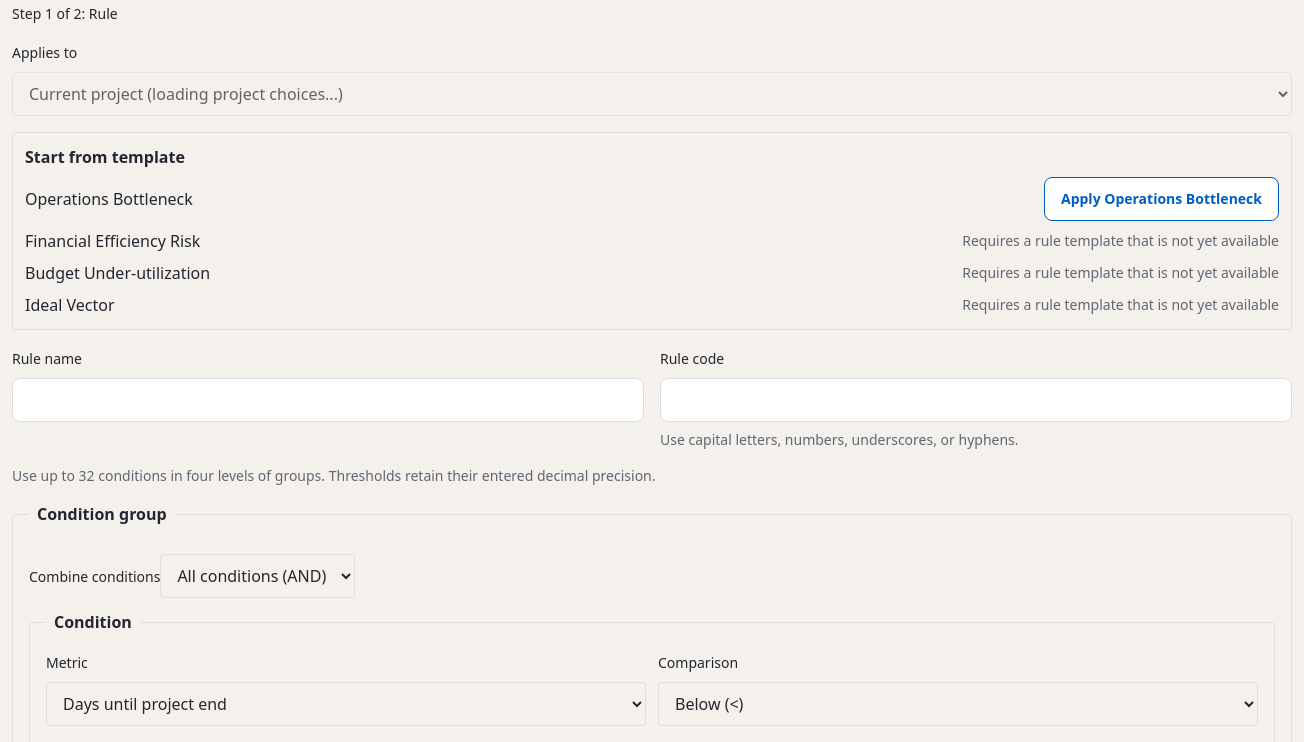
project-scoped record bindings › shows a permission message and makes no activities request when the user lacks both activity permissions
Expected: the dropdown labelled "Applies to" is shown, [12, 72, 1292, 116]
Select "Days activity is overdue" in the dropdown labelled "Metric" at point(346, 704), box [46, 682, 646, 726]
(page scrolled)
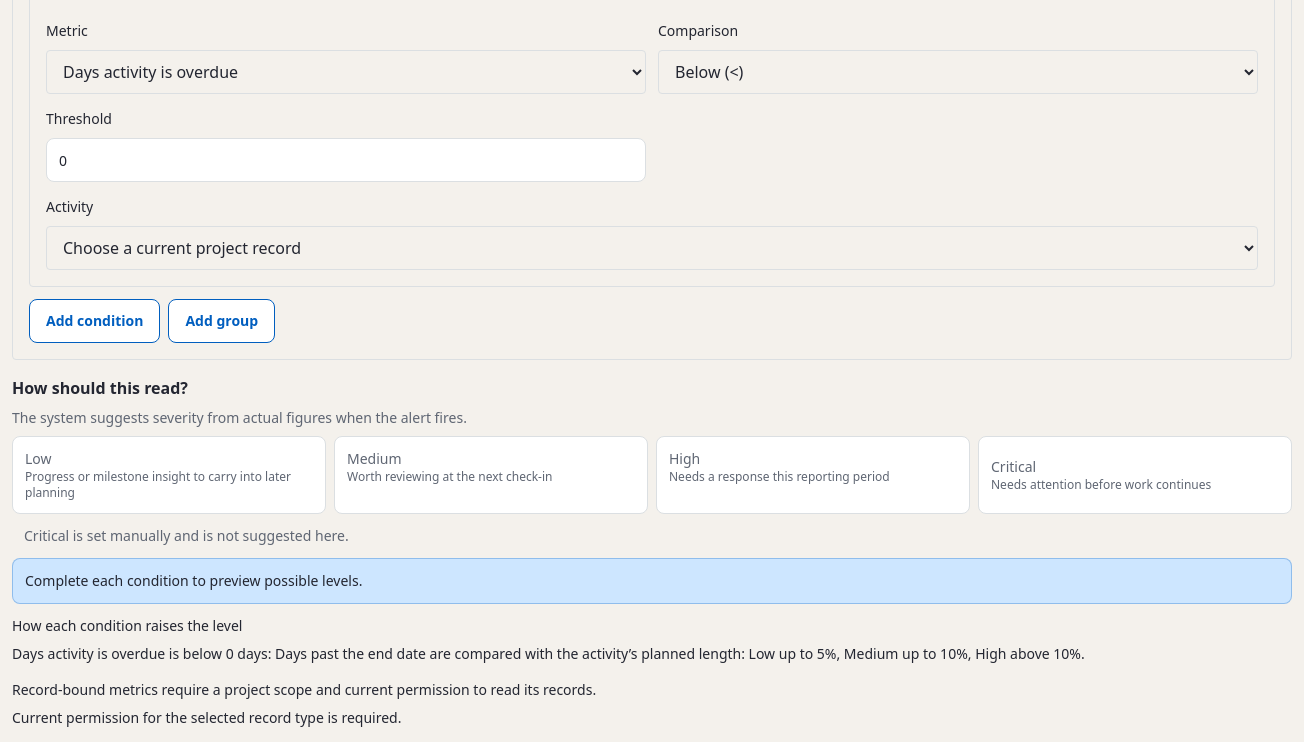
Now the text "Current permission for the selected record type is required." is shown, box [12, 708, 402, 727]
